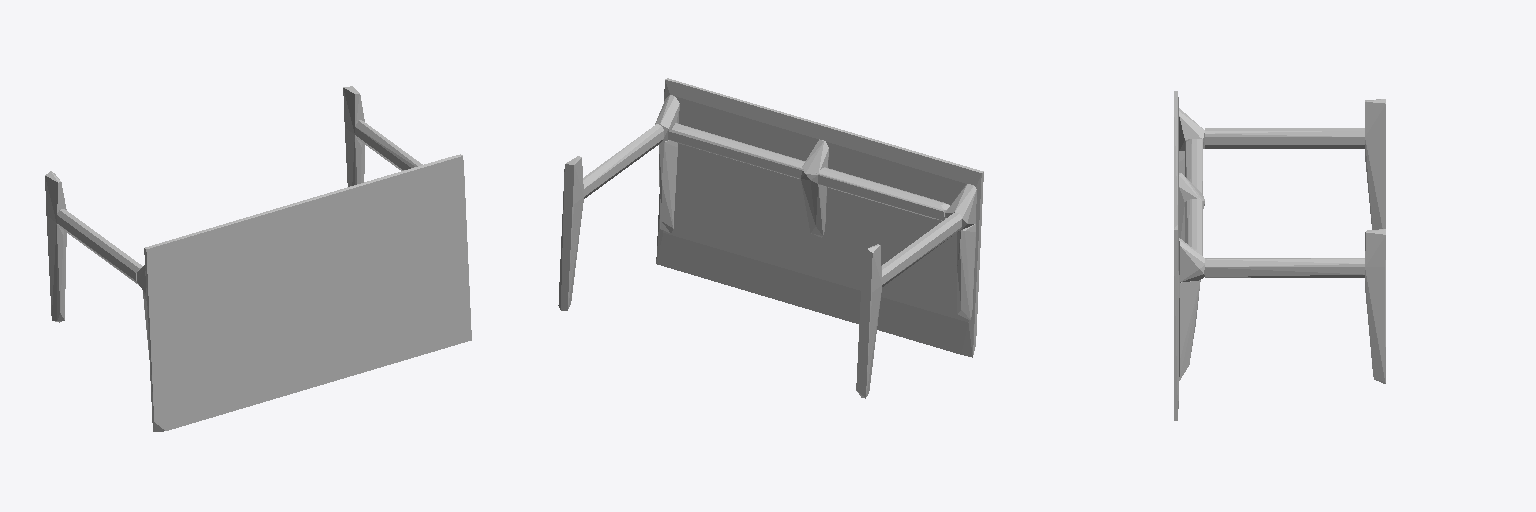
The picture shows the model from 3 angles: view 1: azimuth 30°, elevation 25°; view 2: azimuth 150°, elevation 25°; view 3: azimuth 270°, elevation 25°; orthographic projection.
Parts seen in each view (by area): view 1: convex_0, convex_1, convex_2, convex_3, convex_4; view 2: convex_0, convex_10, convex_1, convex_3, convex_7, convex_4, convex_2, convex_5, convex_8, convex_6, convex_9; view 3: convex_2, convex_4, convex_3, convex_1, convex_10, convex_0, convex_8, convex_9, convex_7, convex_6.
Boxes of the visible parts, <box> form: convex_0: <box>144,154,471,431</box>; convex_1: <box>45,171,66,322</box>; convex_2: <box>57,209,142,284</box>; convex_3: <box>343,86,364,186</box>; convex_4: <box>355,120,422,170</box>; convex_0: <box>656,78,983,357</box>; convex_10: <box>668,123,949,220</box>; convex_1: <box>856,244,881,398</box>; convex_3: <box>558,156,583,310</box>; convex_7: <box>801,139,828,237</box>; convex_4: <box>583,124,663,198</box>; convex_2: <box>882,213,961,286</box>; convex_5: <box>957,224,975,319</box>; convex_8: <box>659,140,677,232</box>; convex_6: <box>945,184,976,229</box>; convex_9: <box>655,95,679,142</box>; convex_2: <box>1205,128,1364,148</box>; convex_4: <box>1205,258,1364,277</box>; convex_3: <box>1365,229,1385,383</box>; convex_1: <box>1365,99,1385,229</box>; convex_10: <box>1185,138,1202,255</box>; convex_0: <box>1174,91,1178,420</box>; convex_8: <box>1179,280,1200,380</box>; convex_9: <box>1179,238,1204,282</box>; convex_7: <box>1179,173,1204,241</box>; convex_6: <box>1179,108,1204,150</box>.
Bounding box in the file's own units: 1.42 × 0.8472 × 0.8046.